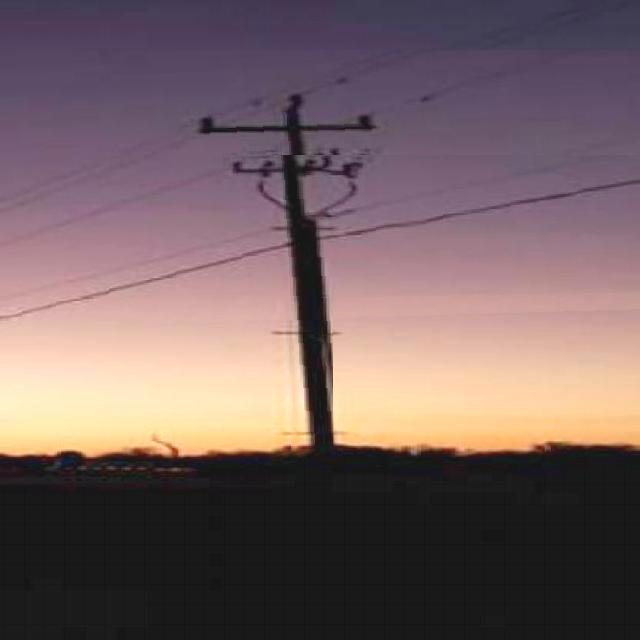pole: (278, 107, 333, 458)
transformer: (194, 126, 370, 144)
wire: (11, 50, 607, 258), (6, 155, 640, 302), (4, 184, 628, 328)
